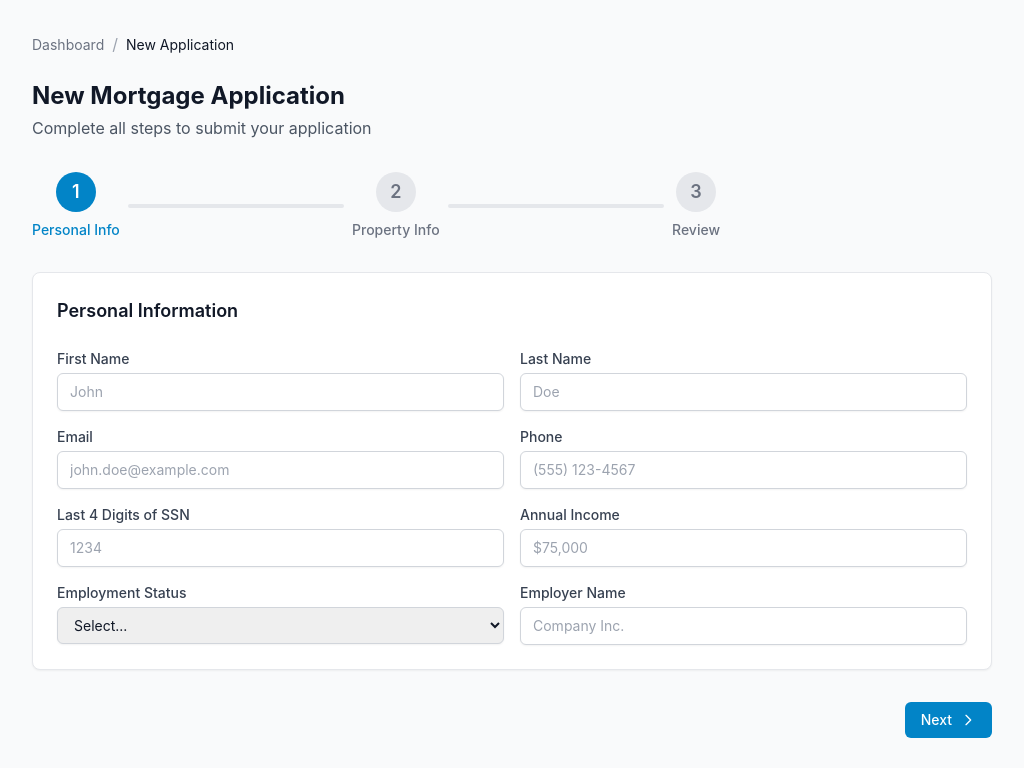
Test: NewApplicationPage › should format phone number correctly
The width and height of the screenshot is (1024, 768).
In the field labelled "Phone": (744, 470) [520,451,967,489], type "5551234567"
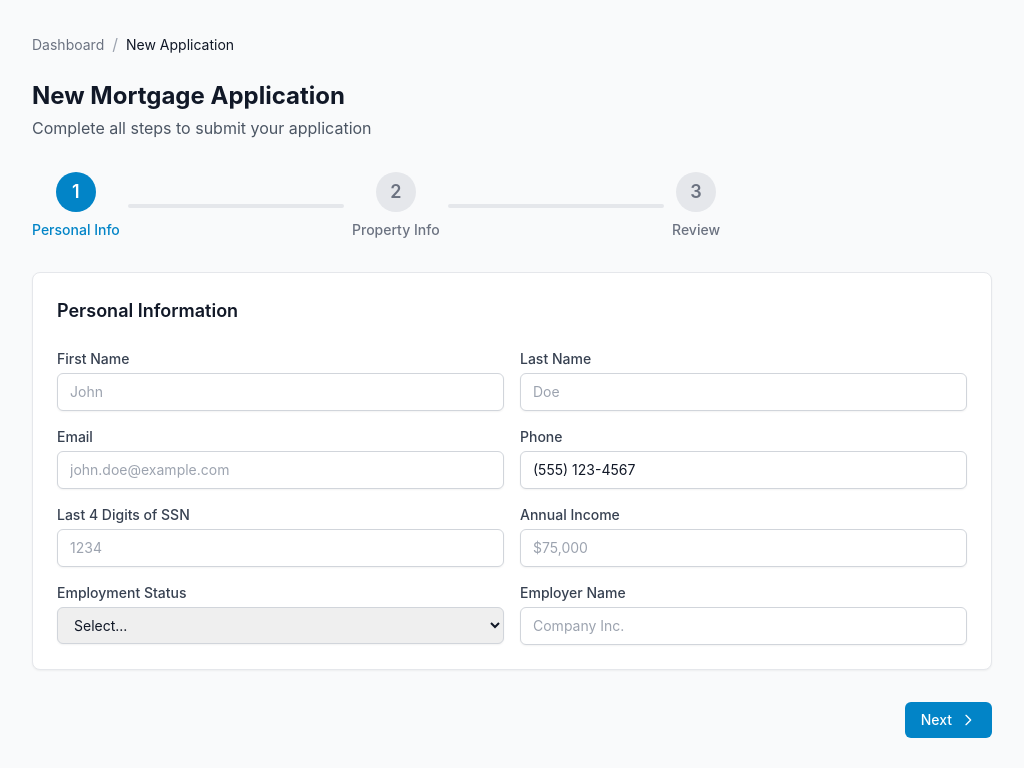
Check: the field labelled "Phone" holds "(555) 123-4567", box [520,451,967,489]
